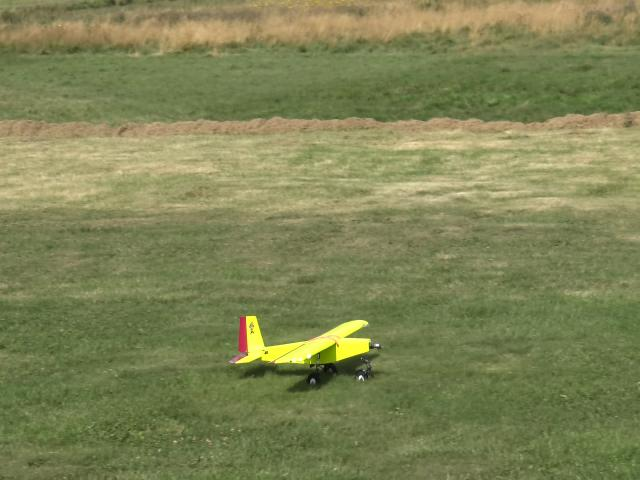plane: (228, 314, 382, 386)
